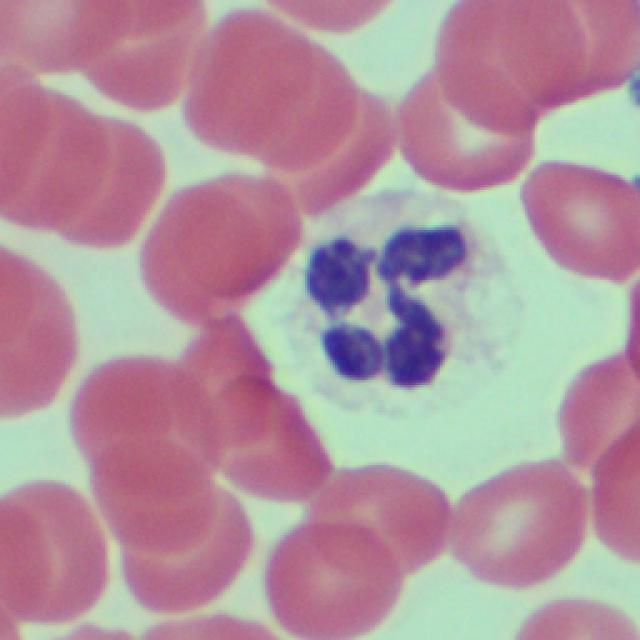RBC: (172, 20, 392, 216), (384, 2, 530, 198), (92, 443, 246, 621), (0, 98, 155, 274), (142, 169, 298, 329), (9, 0, 212, 116), (433, 455, 580, 592), (193, 372, 334, 510), (261, 515, 400, 640), (0, 475, 108, 633), (0, 228, 72, 439), (519, 160, 639, 282), (576, 345, 636, 561), (510, 598, 639, 640), (263, 0, 403, 36)
WBC: (287, 177, 509, 423)
